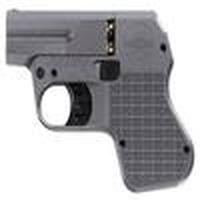gun: (2, 5, 200, 194)
